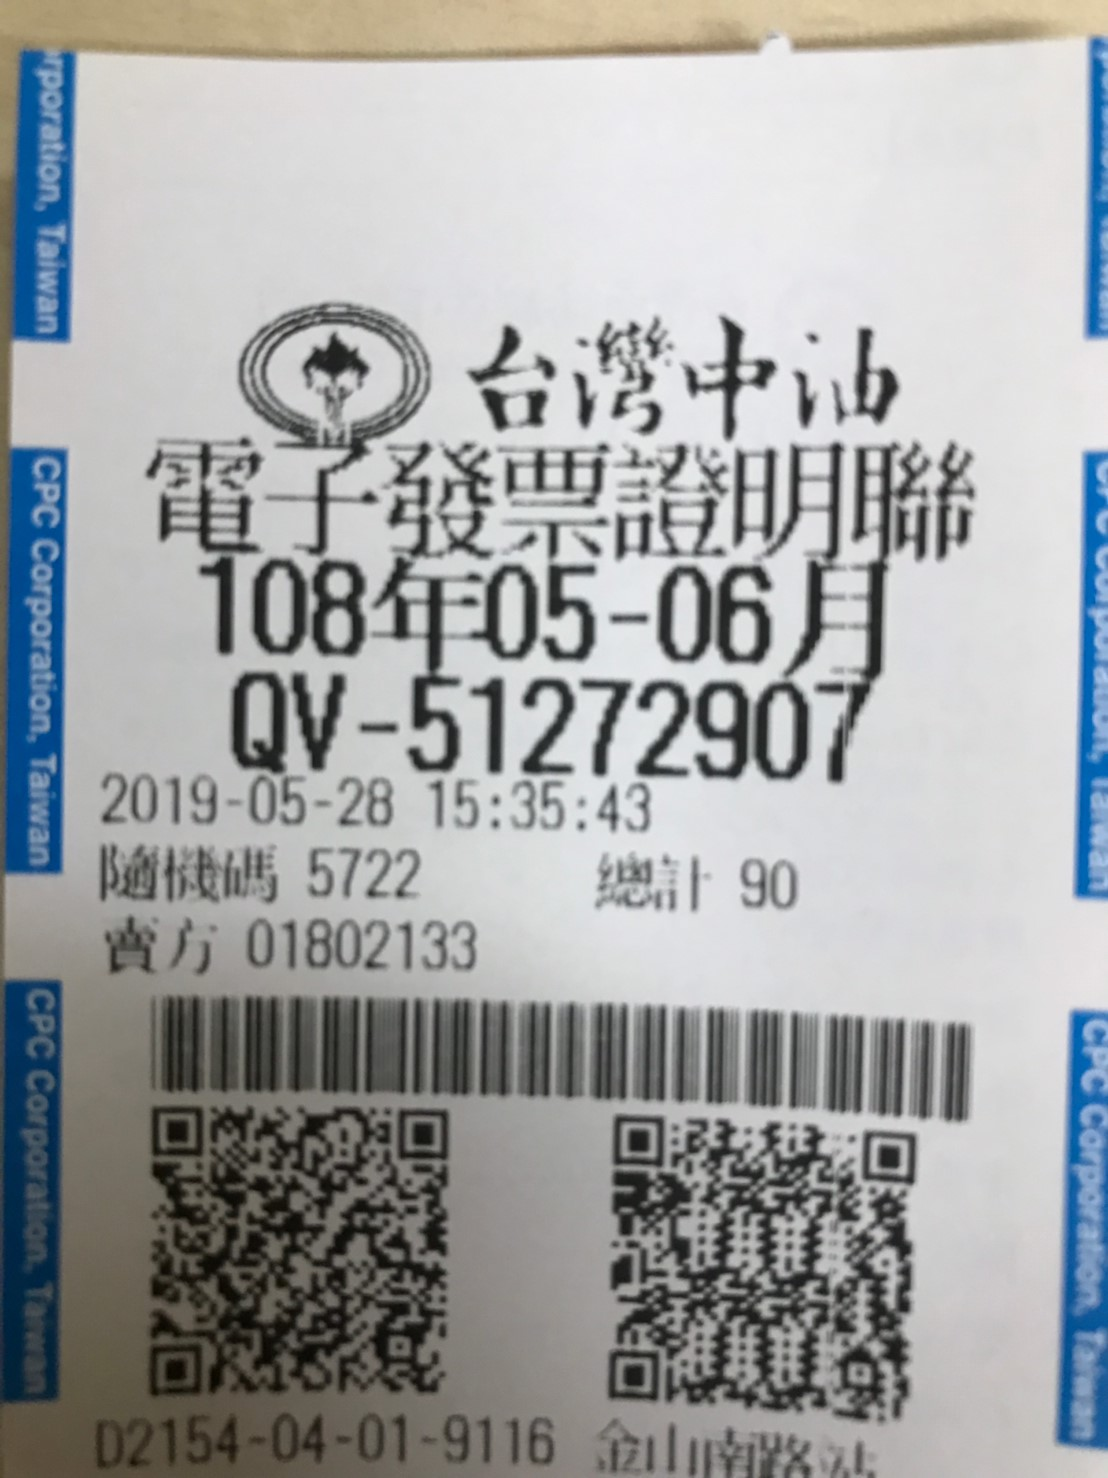Date_New: (196, 556, 888, 684)
Number_New: (405, 673, 871, 783)
